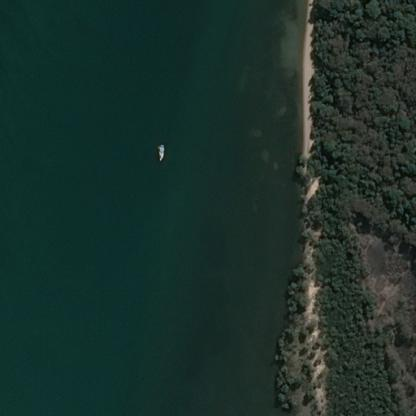ship: (149, 139, 169, 163)
